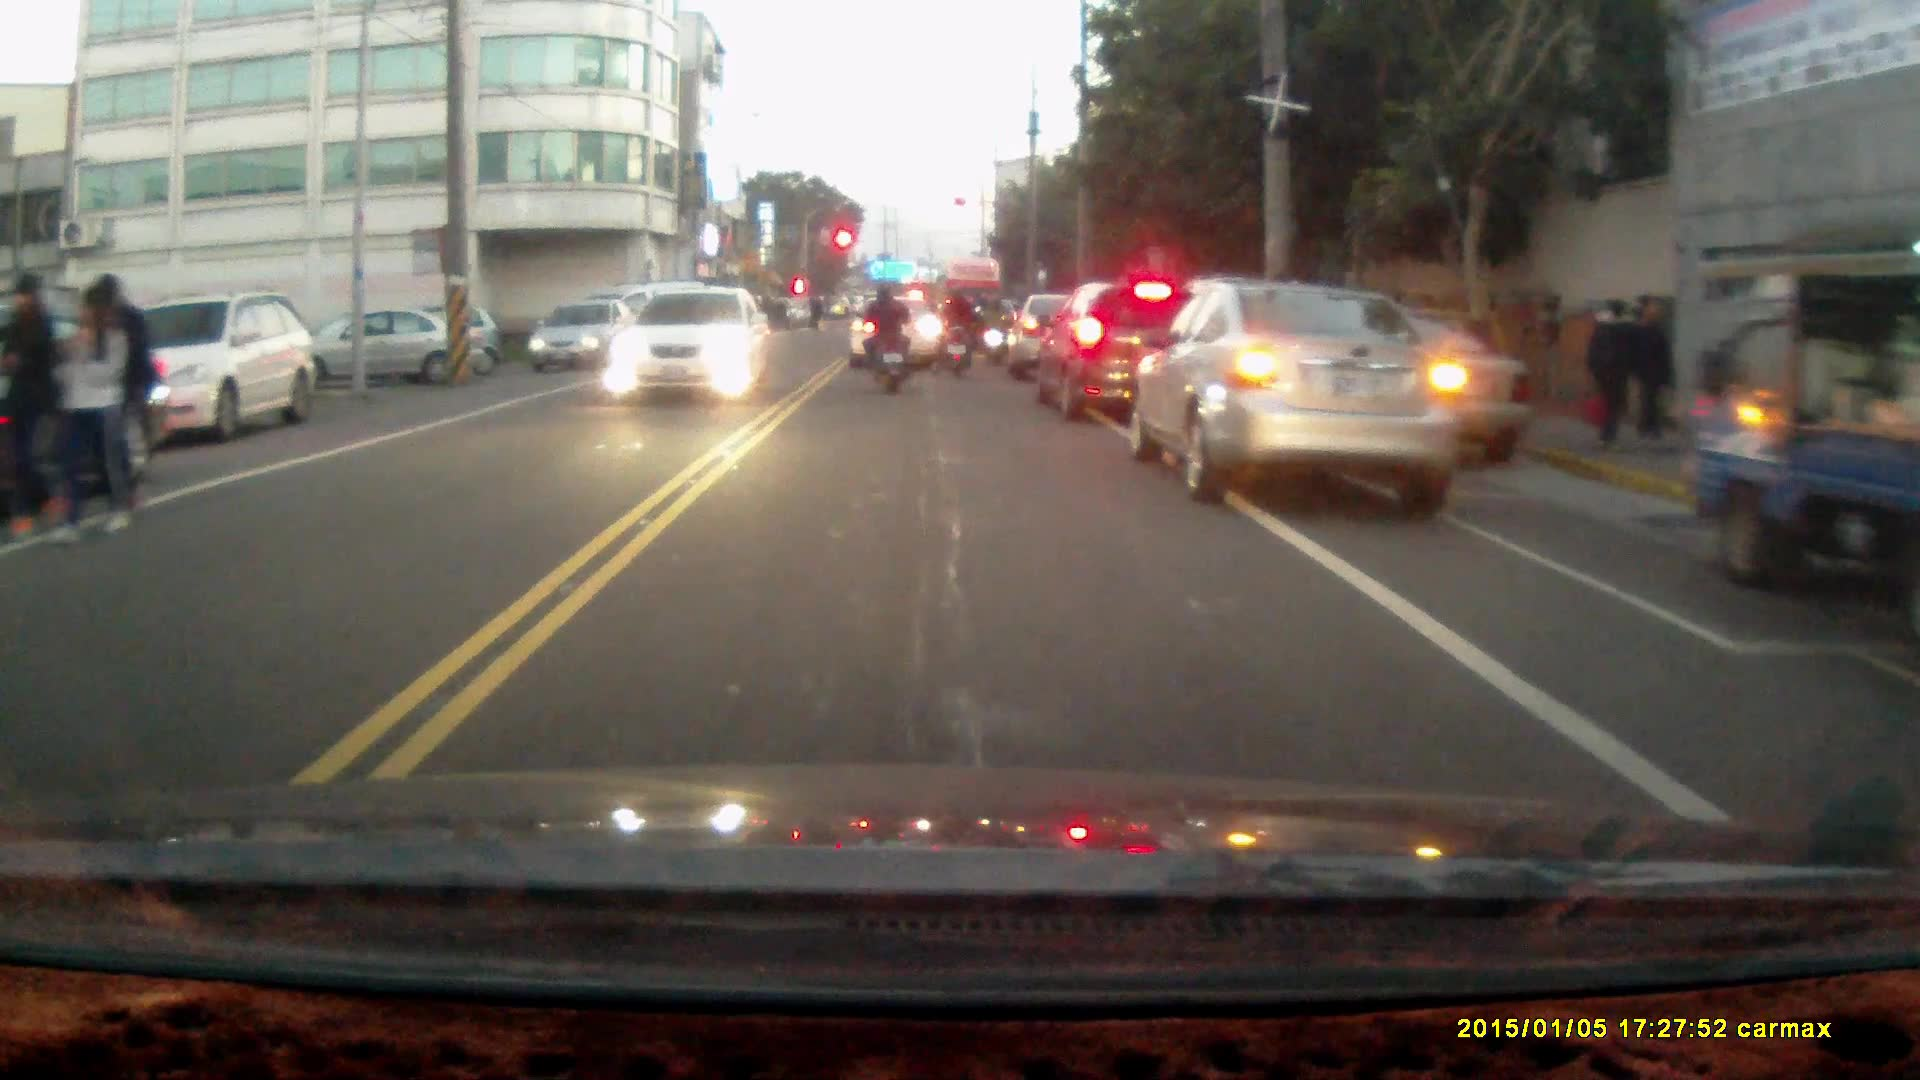pedestrian: (45, 278, 123, 548), (0, 267, 54, 540), (1622, 290, 1678, 446), (1586, 294, 1640, 450)
rider: (858, 276, 909, 394), (934, 280, 981, 377)
vehicle: (1687, 218, 1920, 618), (1136, 277, 1464, 508), (1, 304, 175, 532), (66, 289, 317, 442), (1040, 278, 1189, 420), (602, 285, 771, 400), (310, 305, 488, 384), (531, 297, 637, 369), (851, 292, 949, 366)
